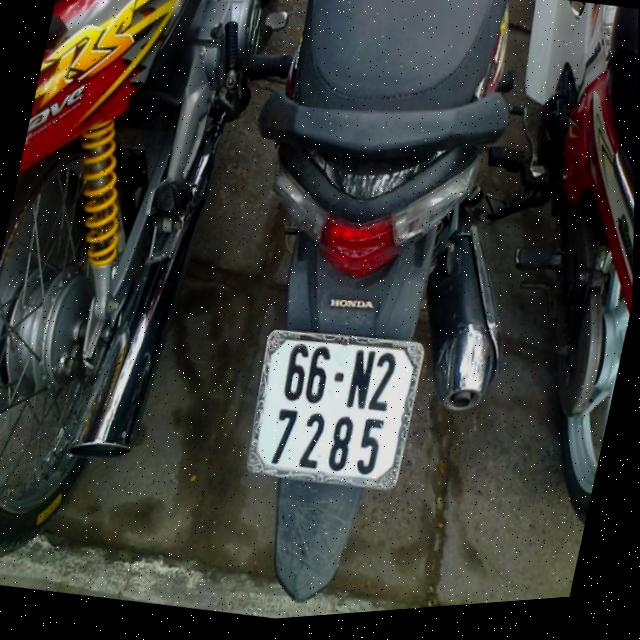motorcycle: (159, 0, 576, 627), (0, 0, 290, 600), (414, 0, 639, 537)
plate: (234, 310, 432, 506)
